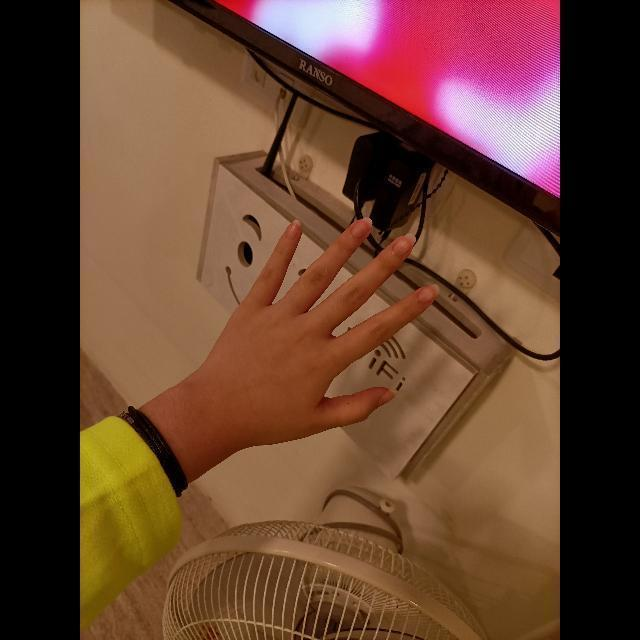bare_hand: (198, 214, 441, 447)
